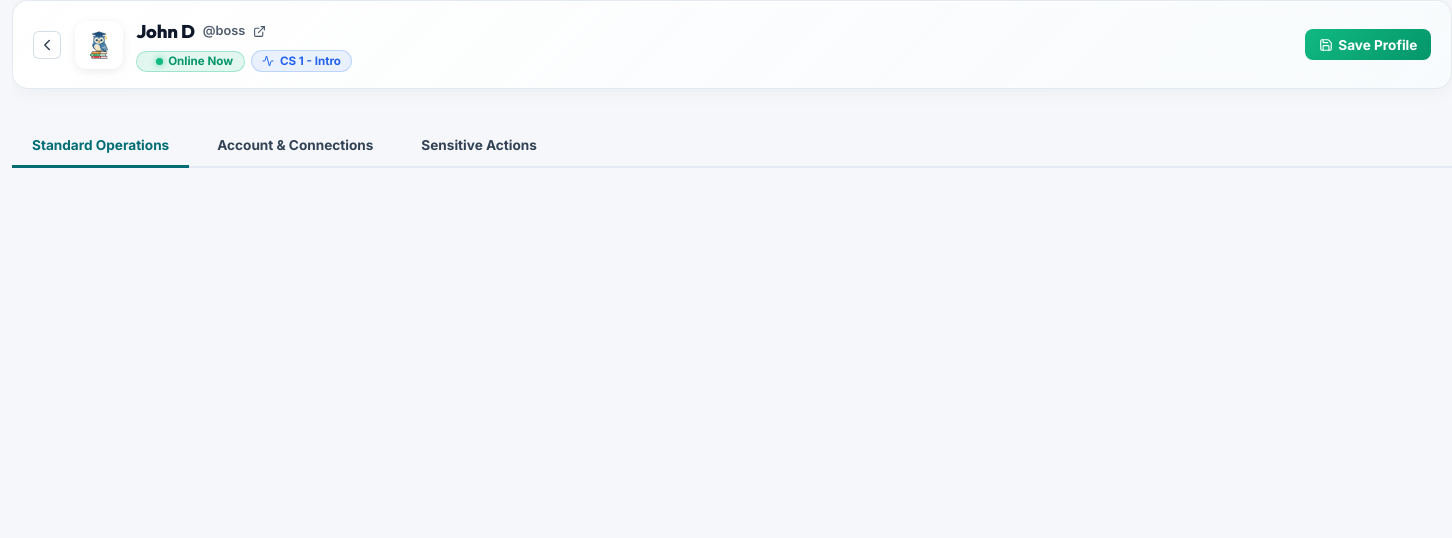
Scenario: AdminUserDashboard Component Redesign › administrator accounts › does not show the pending-approval banner for an unapproved administrator
Expected: the text "@boss" is shown, [203,22,245,42]
What coordinates should you click on to do the following:
click the button "Account & Connections"
I would click on:
 (295, 147)
Its box is [197,125,393,168].
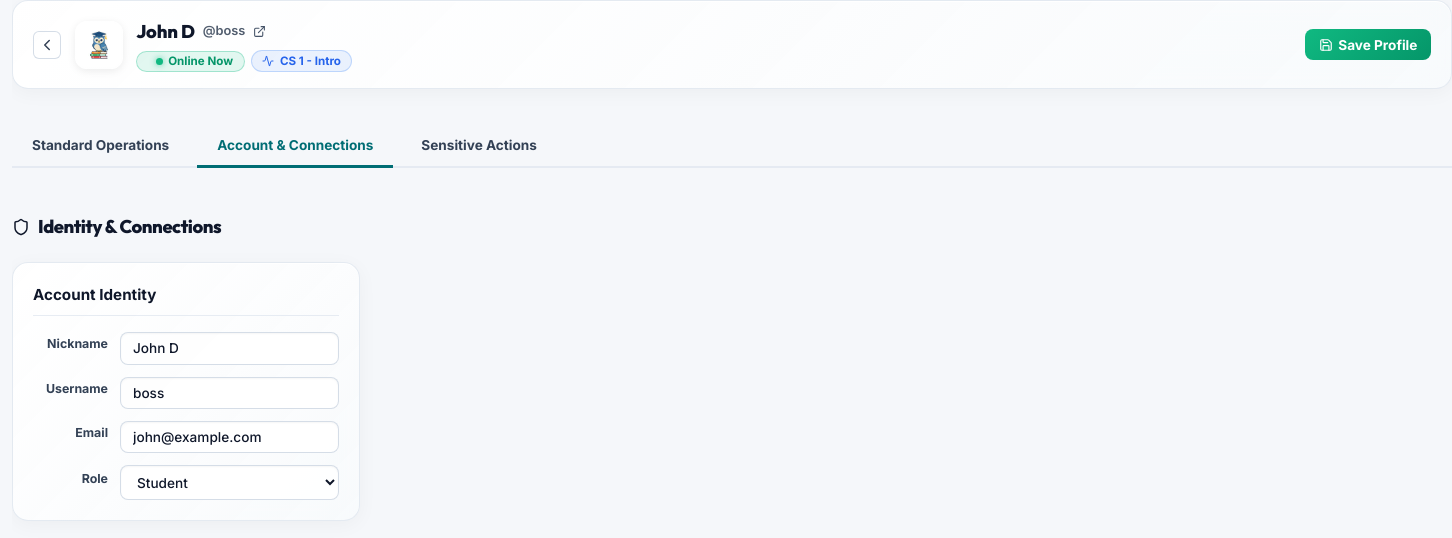
Expected: the field labelled "Username" holds "boss", [120,377,339,409]
